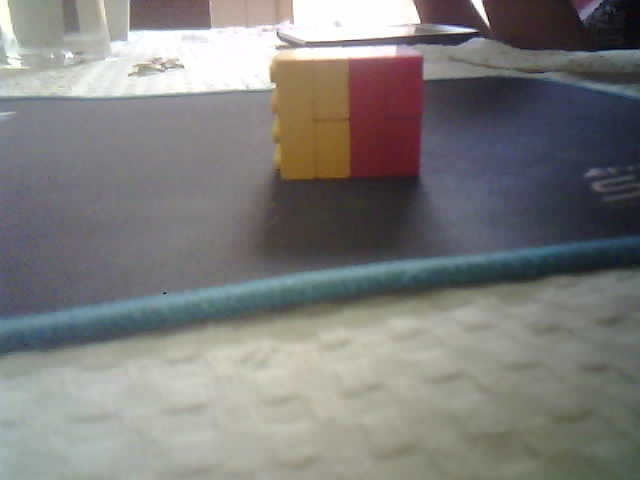lego: (269, 44, 426, 182)
